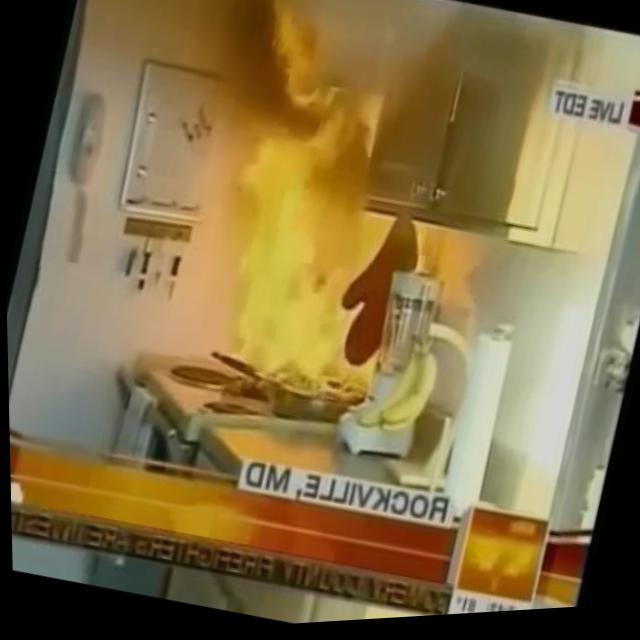fire: (163, 0, 466, 422)
